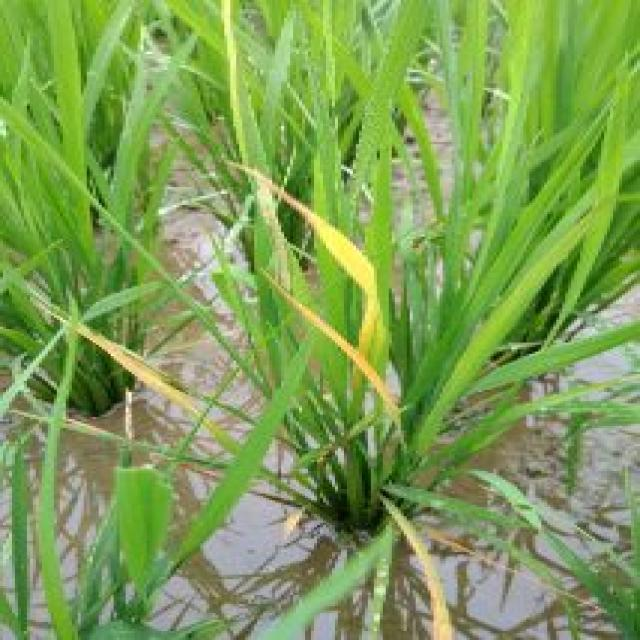Tungro: (234, 148, 428, 410), (232, 166, 388, 399), (49, 305, 245, 450), (382, 497, 459, 640), (215, 1, 251, 179)
